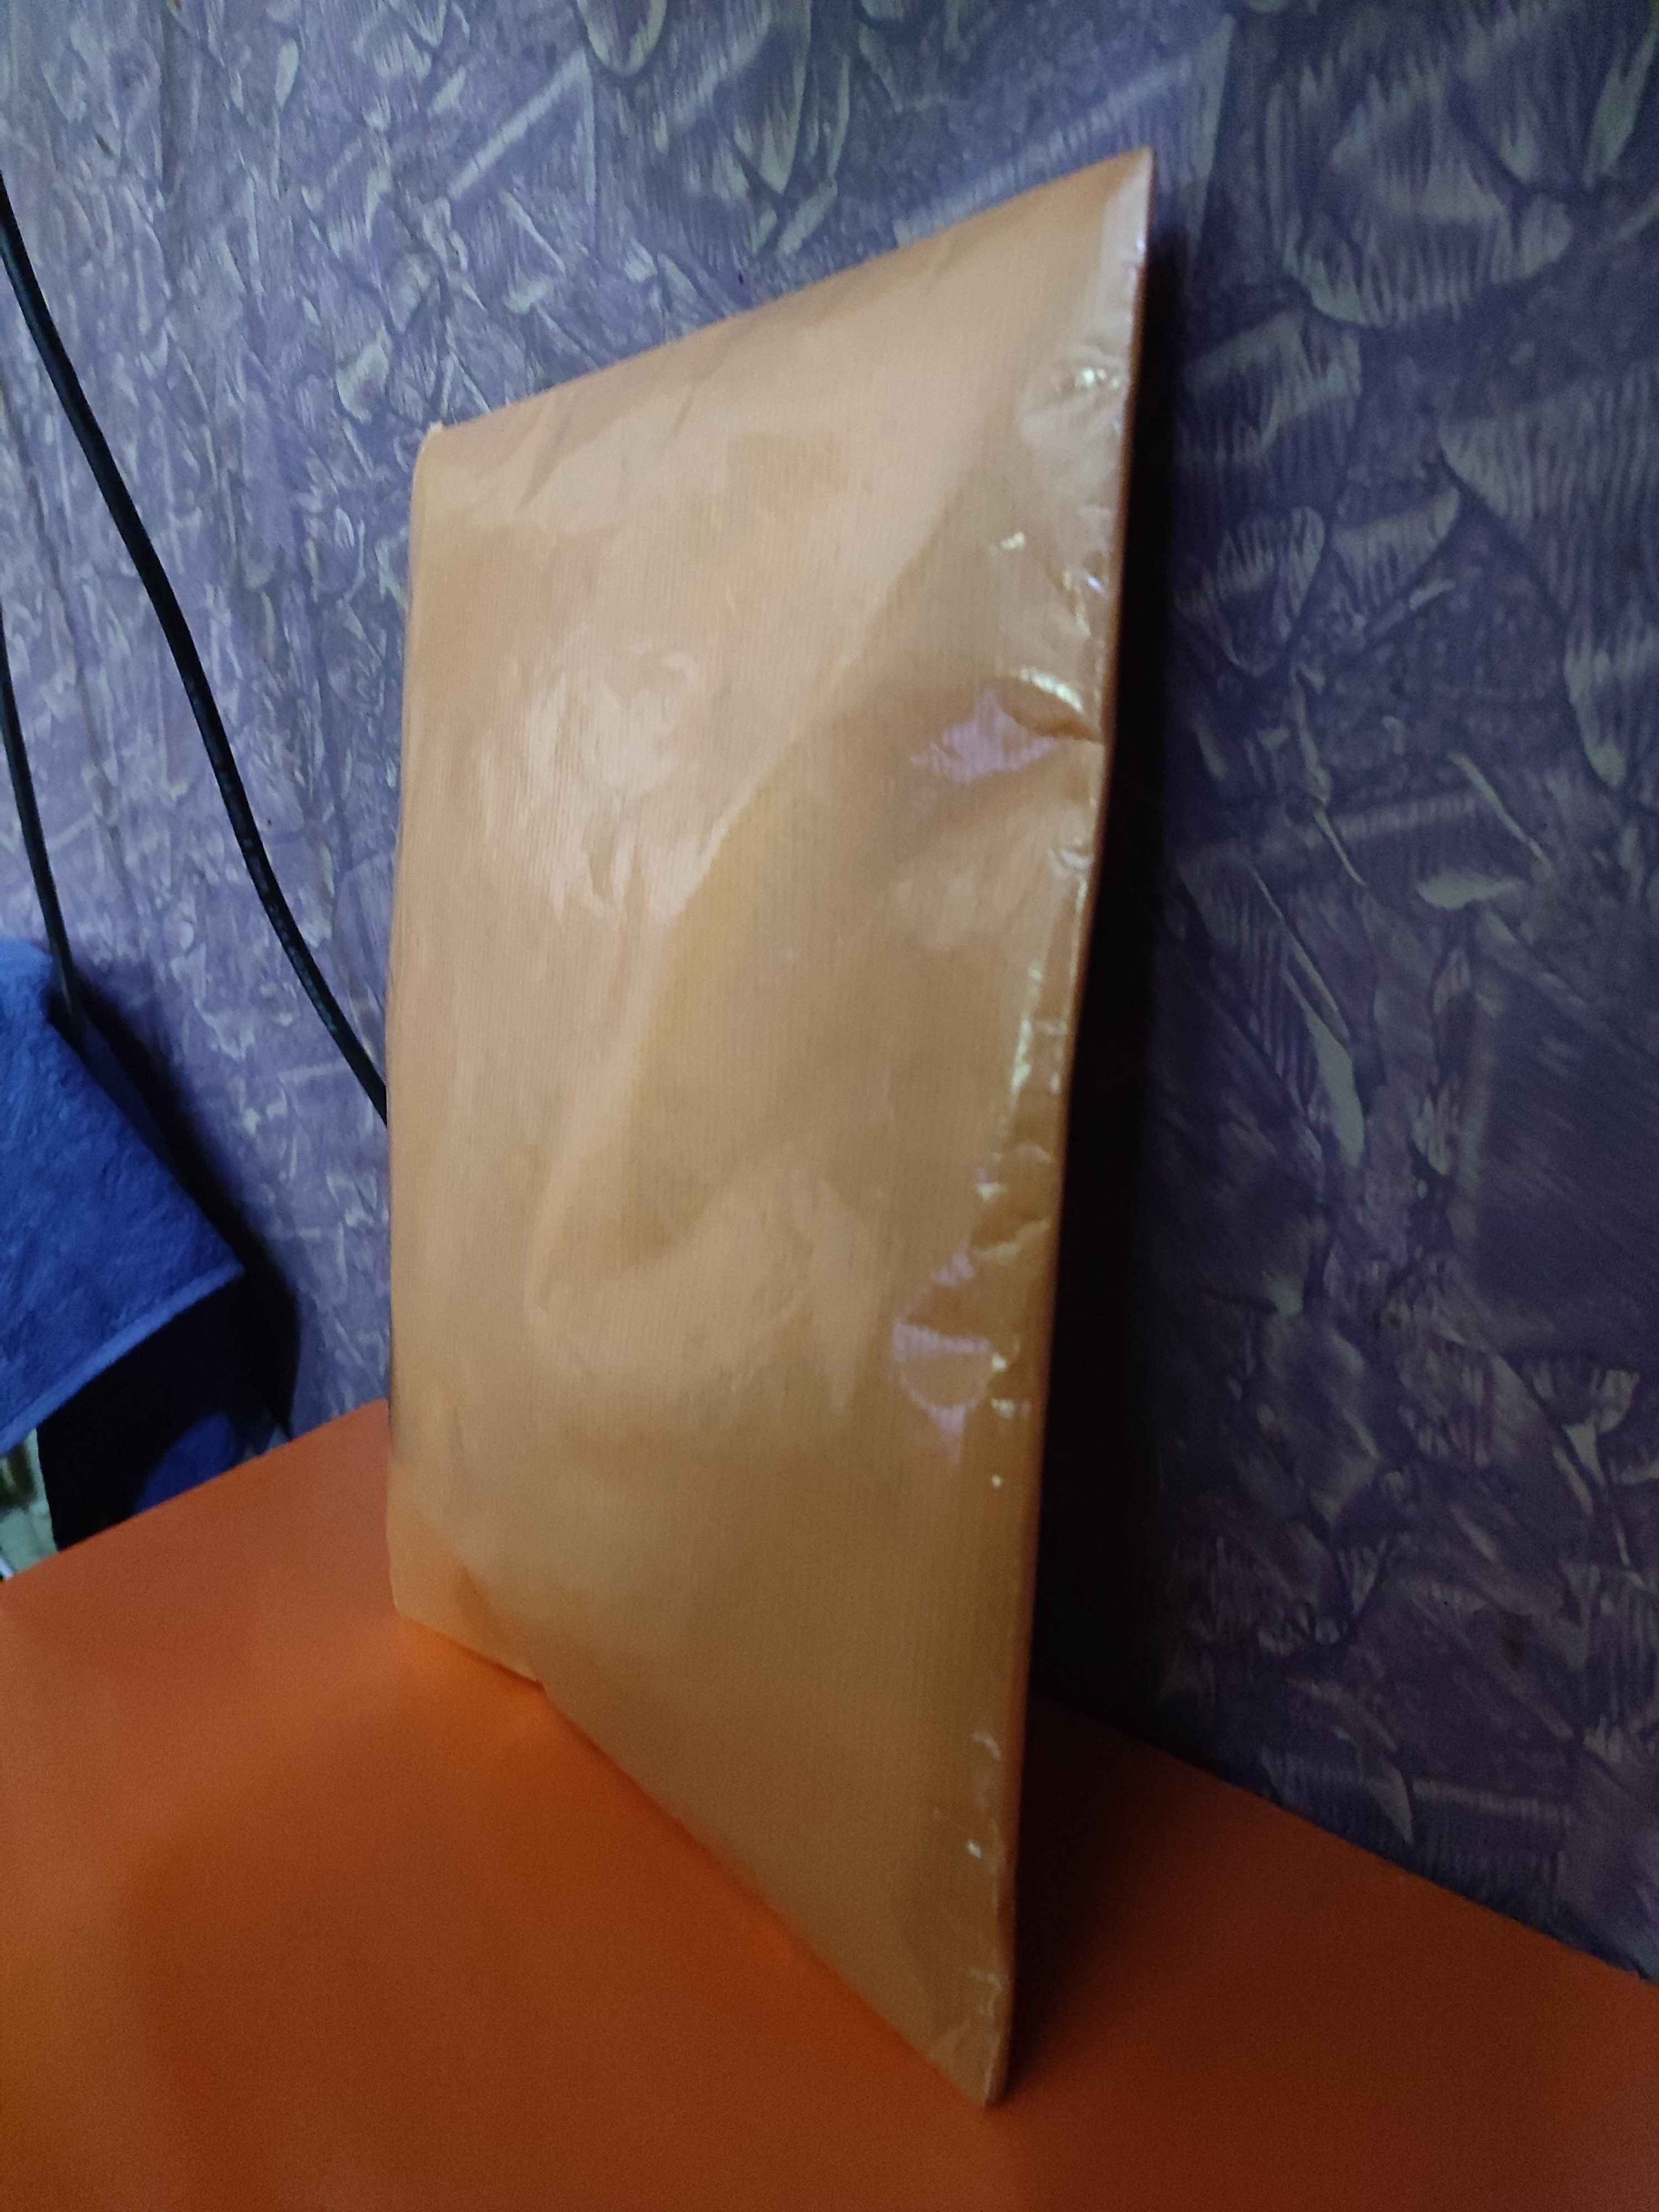Box: (376, 294, 1187, 1973)
